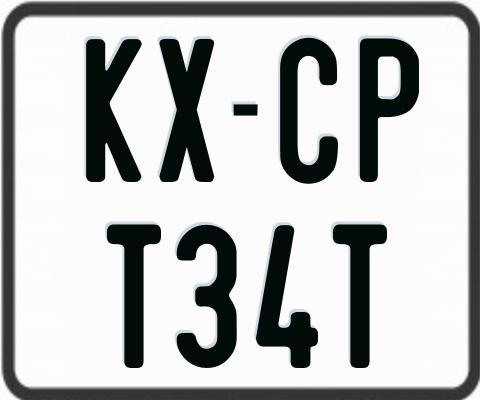3: (174, 224, 234, 367)
4: (253, 223, 319, 367)
C: (280, 37, 339, 188)
K: (85, 39, 145, 188)
P: (359, 37, 420, 187)
T: (104, 224, 162, 374), (333, 221, 389, 367)
X: (158, 38, 219, 184)
